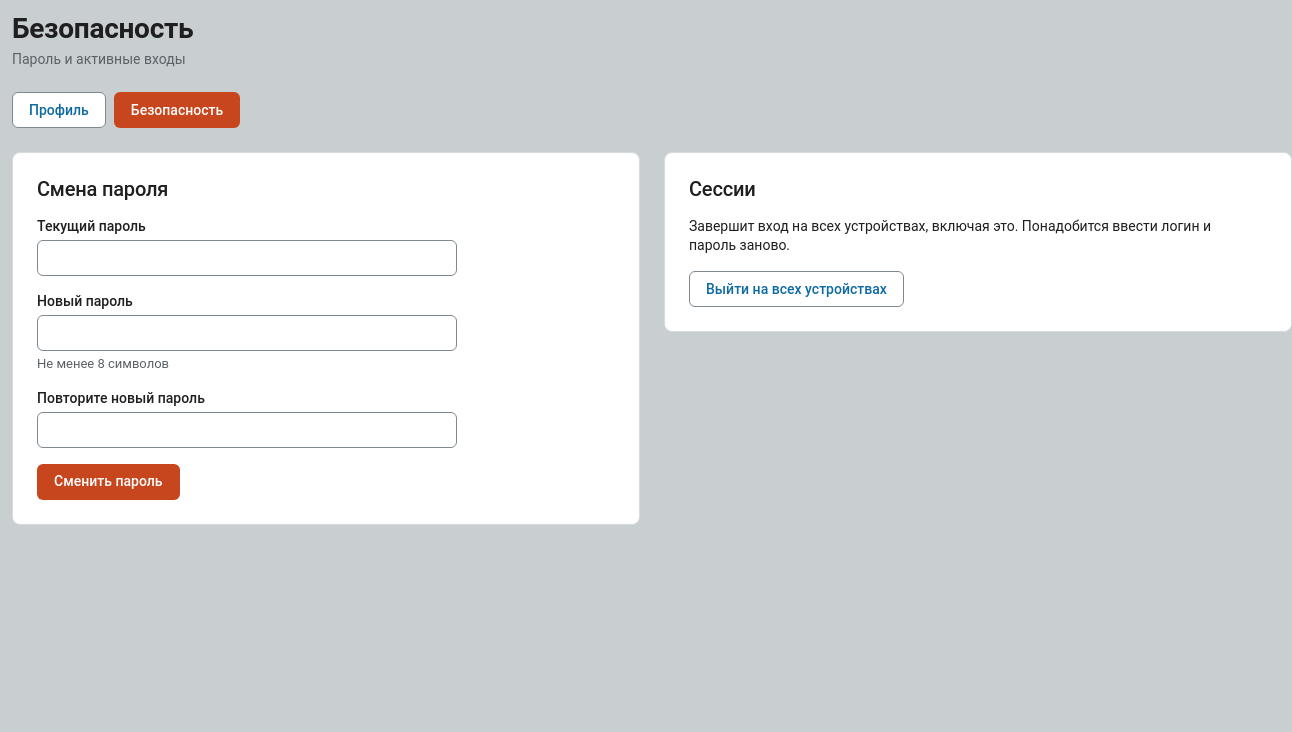
Scenario: Безопасность › ошибка сервера при выходе не уводит на вход и показывает сообщение
Click the button "Выйти на всех устройствах". click: coordinates (796, 289)
box: [689,271,904,307]
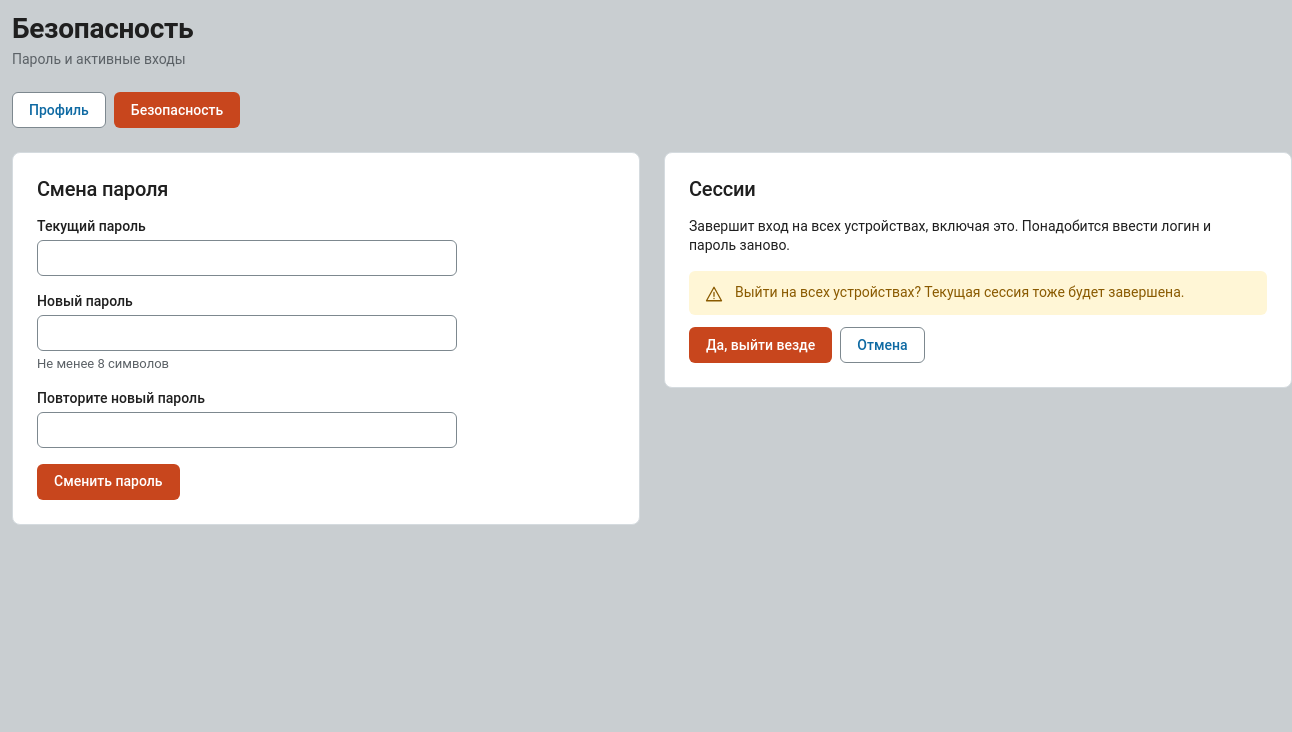
Click the button "Да, выйти везде". click: coordinates (761, 345)
box: [689,327,832,363]
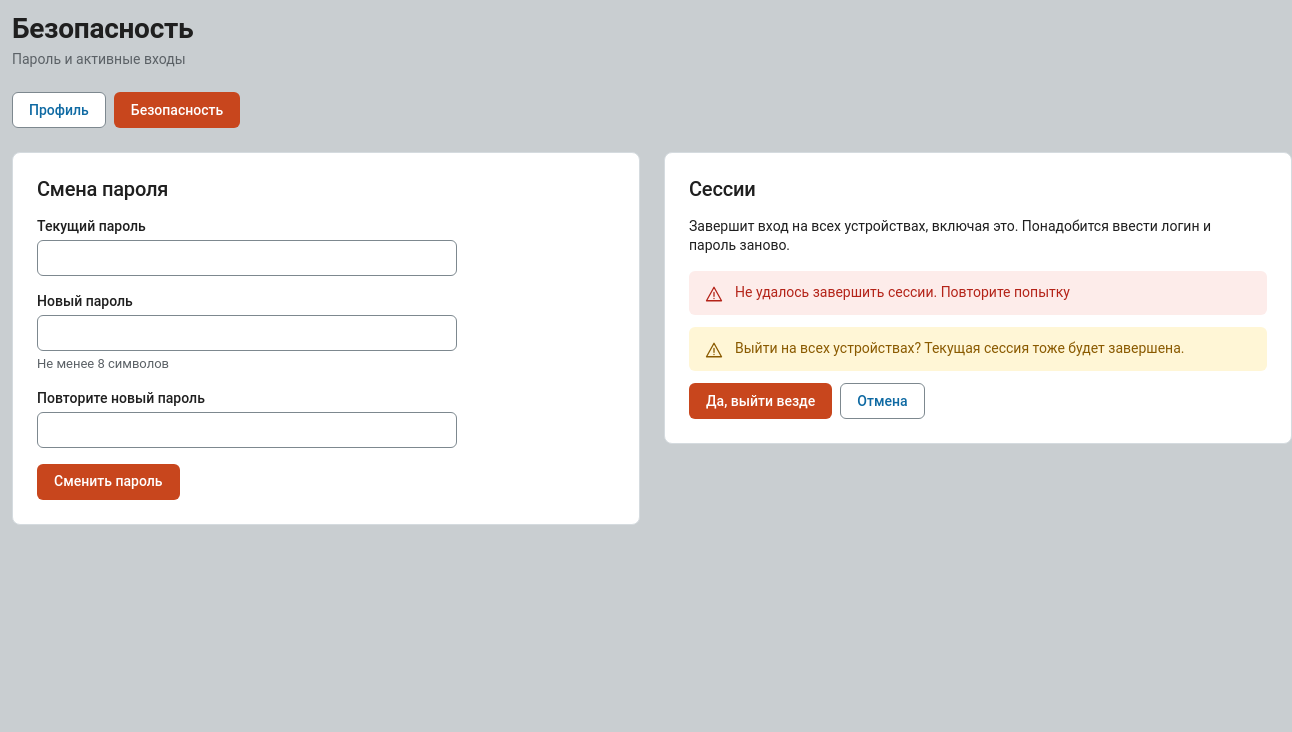
Expected: the message "Не удалось завершить сессии. Повторите попытку" is shown, [689,271,1267,315]
